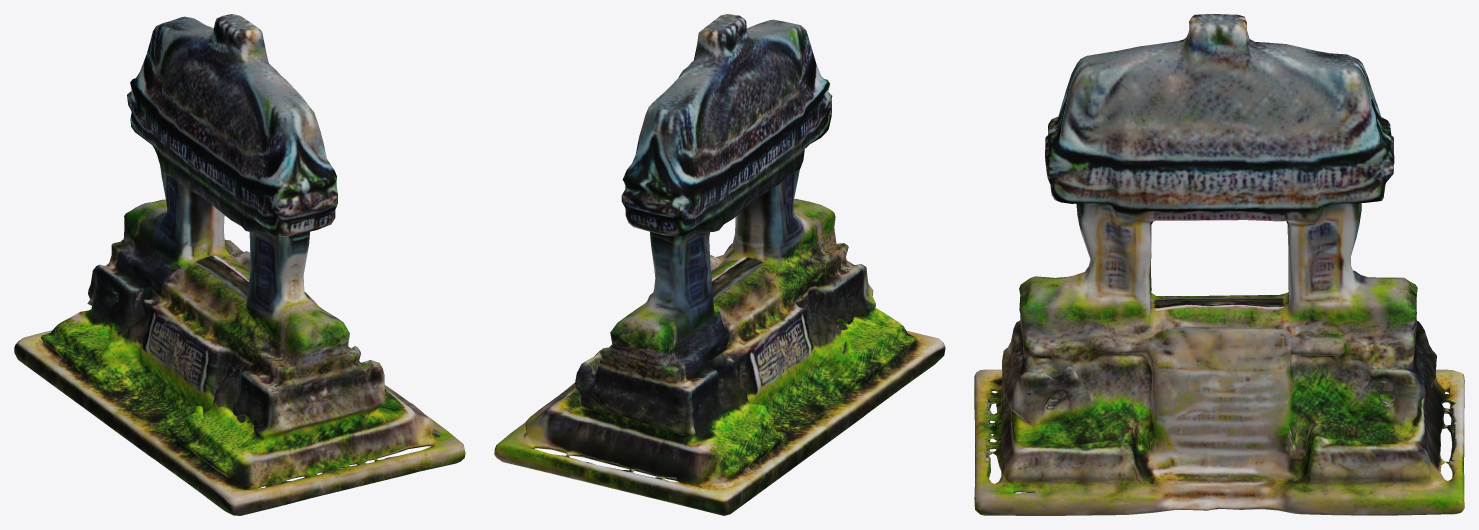
File: 168abd24ae64_Da_Nang_Historic_Si.obj
The picture shows the model from 3 angles, left to right: view 1: azimuth 30°, elevation 25°; view 2: azimuth 150°, elevation 25°; view 3: azimuth 270°, elevation 25°; orthographic projection. The views are drawn at different scales.
Parts seen in each view (by area): view 1: mesh; view 2: mesh; view 3: mesh.
Boxes of the visible parts, x1=… form: mesh: x1=14, y1=14, x2=465, y2=515; mesh: x1=494, y1=14, x2=945, y2=515; mesh: x1=974, y1=14, x2=1464, y2=515.
Bounding box in the file's own units: 0.6194 × 0.9742 × 0.9994.
1 material, 1 textured.
